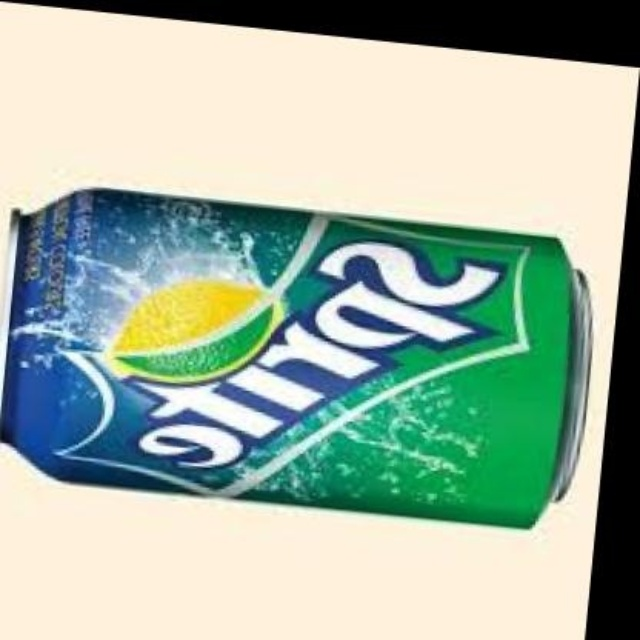trash: (2, 189, 589, 526)
